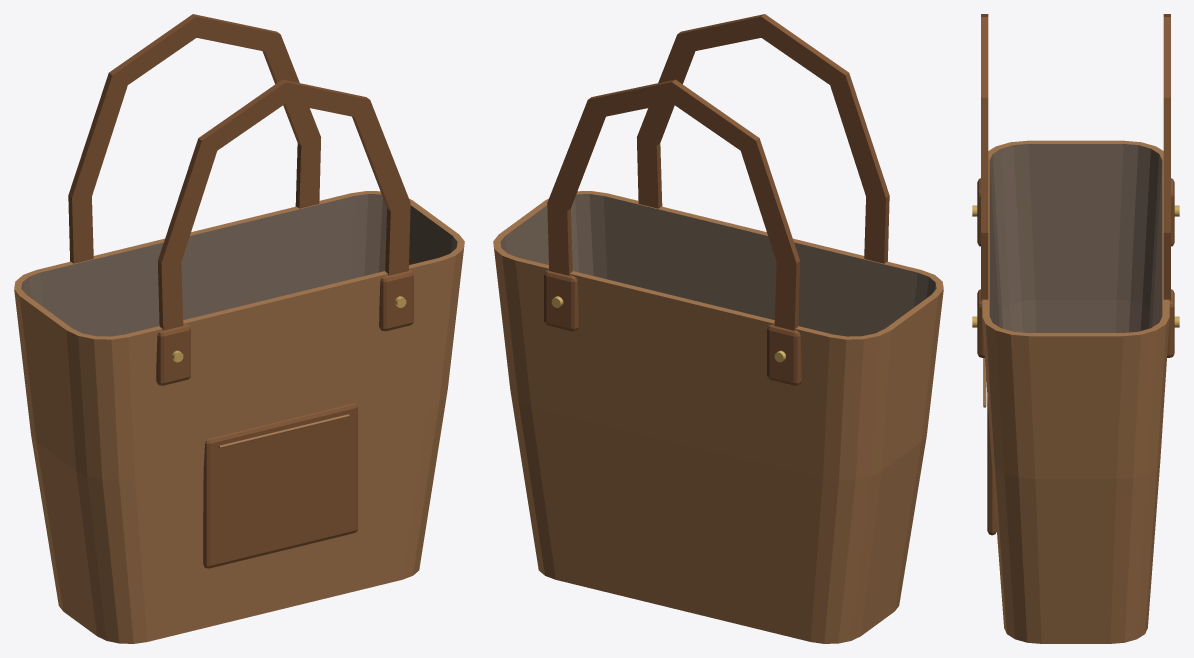
Rendered from purse_tote_handbag.glb.
The picture shows the model from 3 angles, left to right: view 1: azimuth 30°, elevation 25°; view 2: azimuth 150°, elevation 25°; view 3: azimuth 270°, elevation 25°; orthographic projection.
Visible parts, largest first — view 1: Tote_Open_Lined_Body, Tote_Front_Patch_Pocket, Tote_Connected_Handle, Tote_Connected_Handle.001, Tote_Handle_Anchor.001, Tote_Handle_Anchor; view 2: Tote_Open_Lined_Body, Tote_Connected_Handle.001, Tote_Connected_Handle, Tote_Handle_Anchor.003, Tote_Handle_Anchor.002; view 3: Tote_Open_Lined_Body, Tote_Connected_Handle, Tote_Connected_Handle.001, Tote_Front_Patch_Pocket, Tote_Handle_Anchor.001, Tote_Handle_Anchor.003.
Part boxes in pixels (x1,y1,x2,y2): Tote_Open_Lined_Body: [14, 191, 464, 643]; Tote_Front_Patch_Pocket: [203, 403, 357, 568]; Tote_Connected_Handle: [157, 79, 410, 330]; Tote_Connected_Handle.001: [68, 14, 321, 263]; Tote_Handle_Anchor.001: [379, 270, 413, 331]; Tote_Handle_Anchor: [156, 324, 190, 385]; Tote_Open_Lined_Body: [493, 191, 943, 643]; Tote_Connected_Handle.001: [547, 79, 800, 330]; Tote_Connected_Handle: [636, 14, 889, 263]; Tote_Handle_Anchor.003: [544, 270, 578, 331]; Tote_Handle_Anchor.002: [767, 324, 801, 385]; Tote_Open_Lined_Body: [982, 140, 1169, 643]; Tote_Connected_Handle: [981, 14, 988, 300]; Tote_Connected_Handle.001: [1163, 14, 1170, 300]; Tote_Front_Patch_Pocket: [987, 397, 996, 535]; Tote_Handle_Anchor.001: [977, 289, 984, 357]; Tote_Handle_Anchor.003: [1167, 289, 1174, 357].
Size of the model in its own units: 0.37 by 0.4835 by 0.166.
